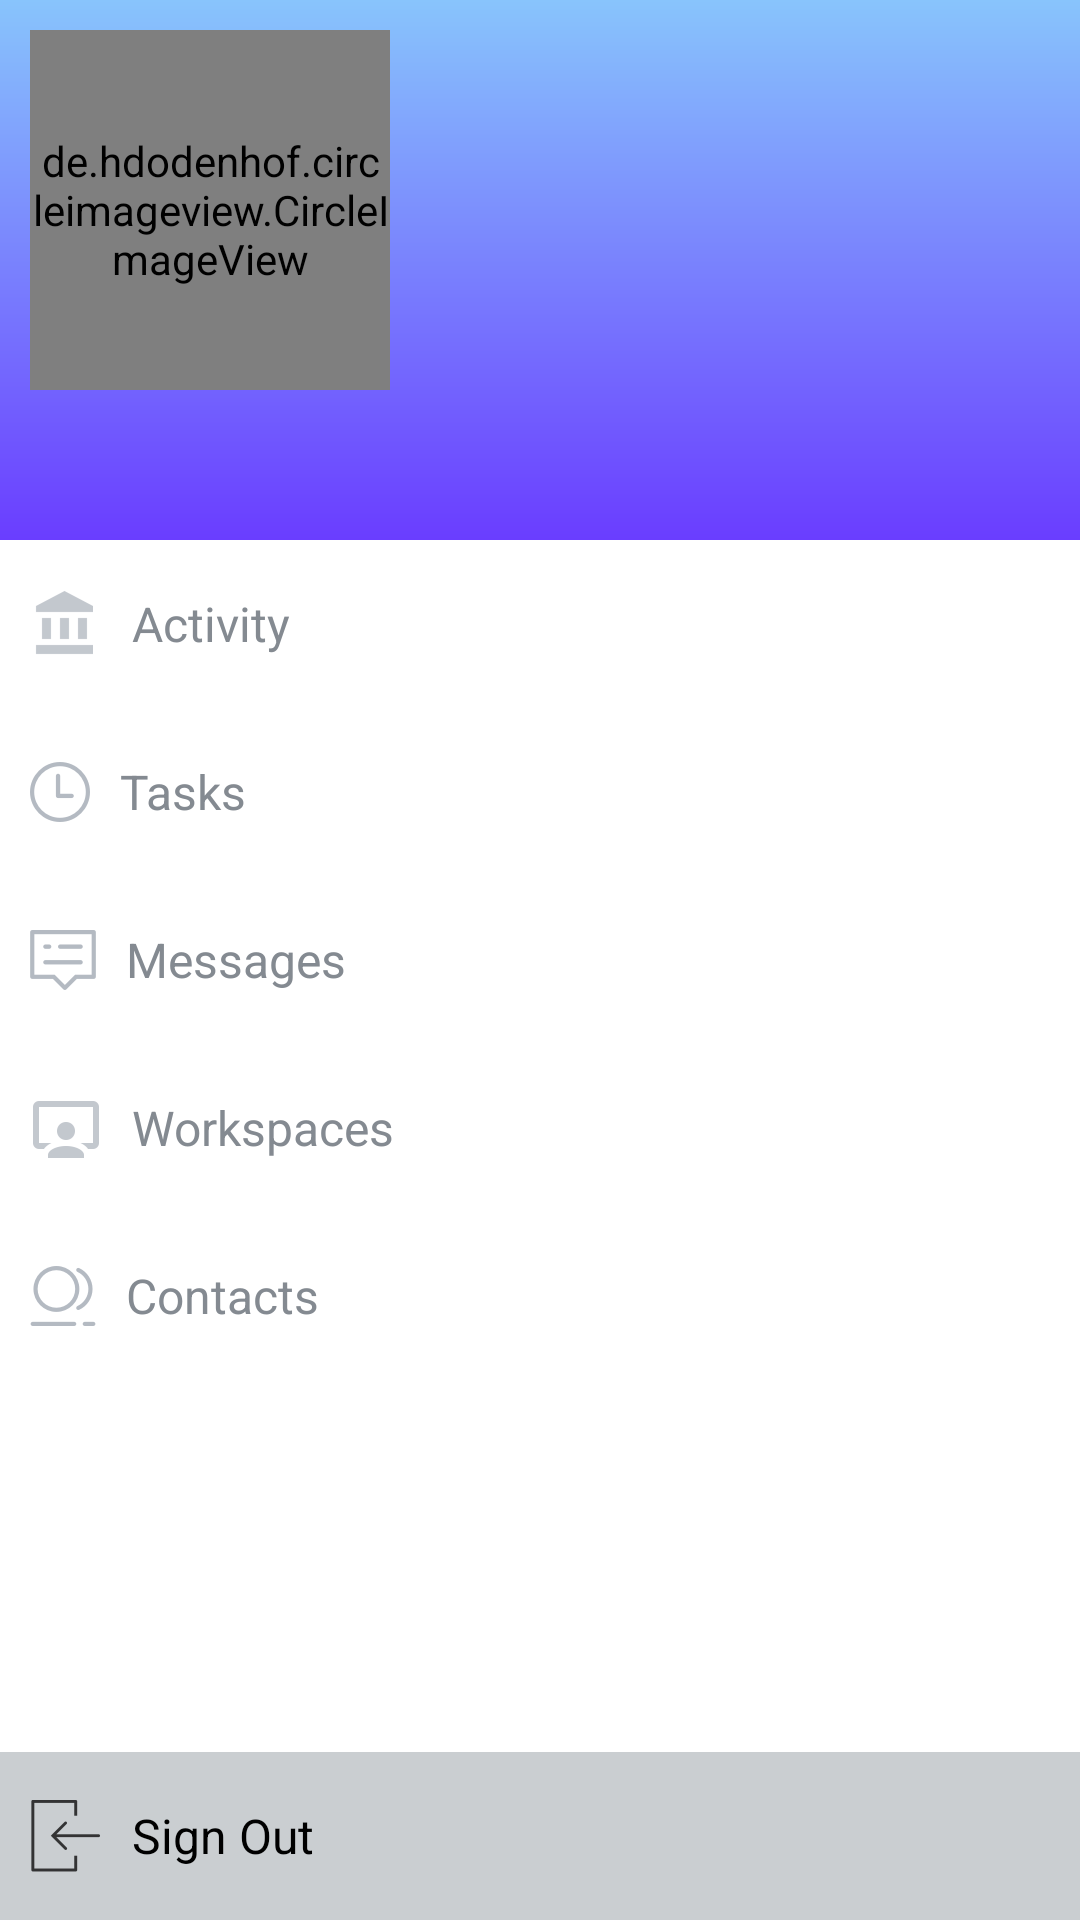

Icon bounding boxes for this 1080 × 1920 phone screenshot, format region(x1, y1, x2, y2):
log out: region(31, 1800, 100, 1872)
